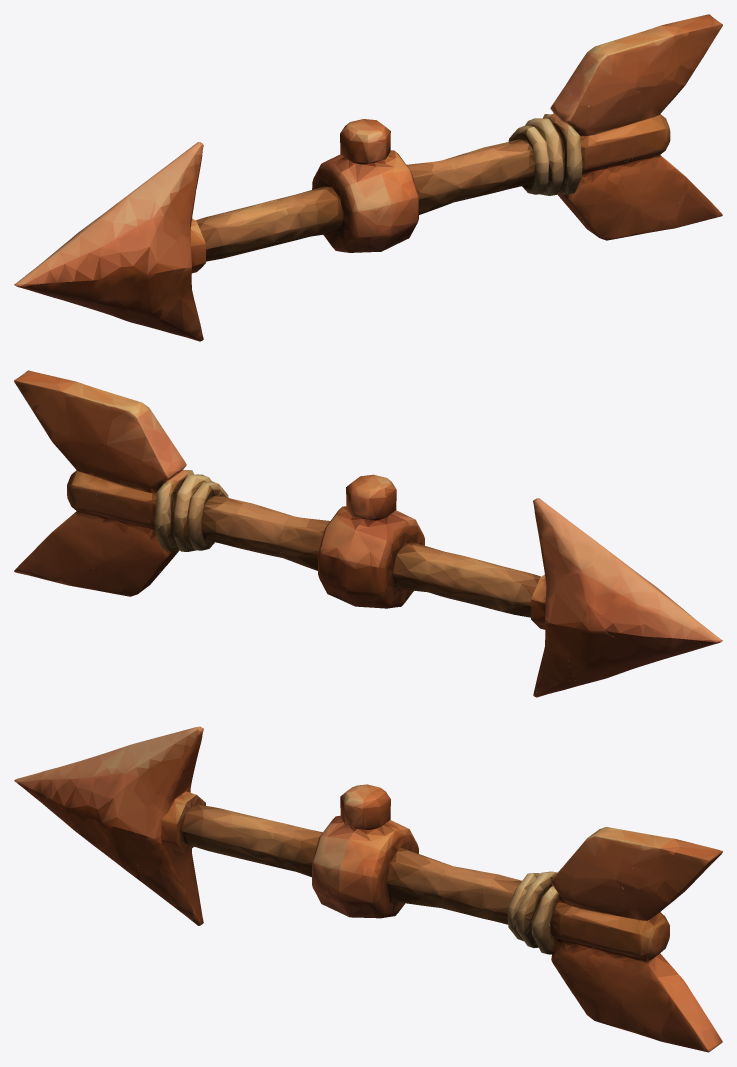
File: building-windVane-arrow-tripo.glb
3 views of the same model, one above another, from view 1: azimuth 30°, elevation 25°; view 2: azimuth 150°, elevation 25°; view 3: azimuth 330°, elevation 25° (orthographic).
Parts seen in each view (by area): view 1: 0_windVane-arrow; view 2: 0_windVane-arrow; view 3: 0_windVane-arrow.
Boxes of the visible parts, <box> form: 0_windVane-arrow: <box>14,14,722,341</box>; 0_windVane-arrow: <box>14,370,722,697</box>; 0_windVane-arrow: <box>14,726,722,1052</box>.
Bounding box in the file's own units: 1.15 × 0.3116 × 0.1473.
